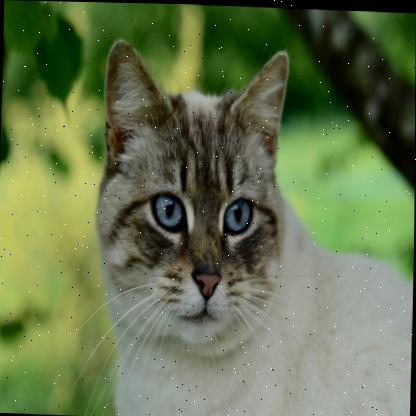cat: (93, 39, 288, 416)
